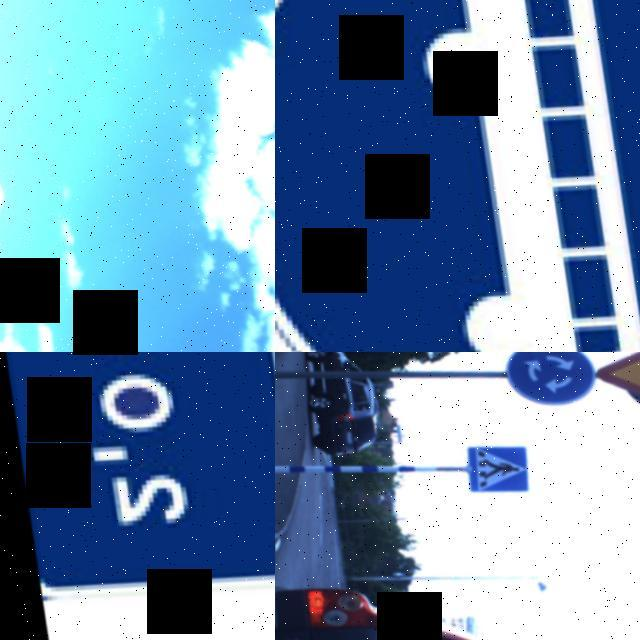16: (496, 352, 598, 409)
174: (585, 352, 640, 425)
180: (457, 432, 533, 497)
98: (275, 0, 640, 352)
tunnel in 2 km: (0, 352, 275, 629)
